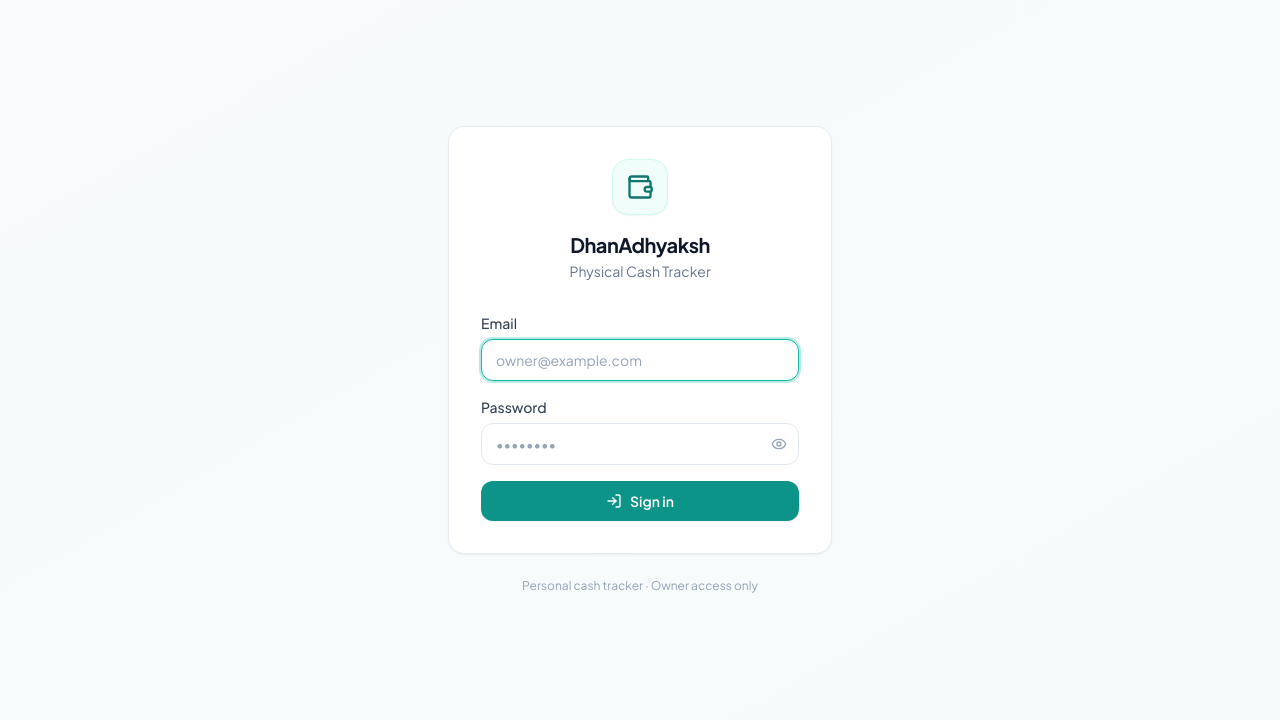
Test: Auth: Successful login navigates to app dashboard › shows the dashboard after successful login
Type "owner@test.com" into the field labelled "Email".
click(640, 360); type("owner@test.com")  # box [481, 339, 799, 381]
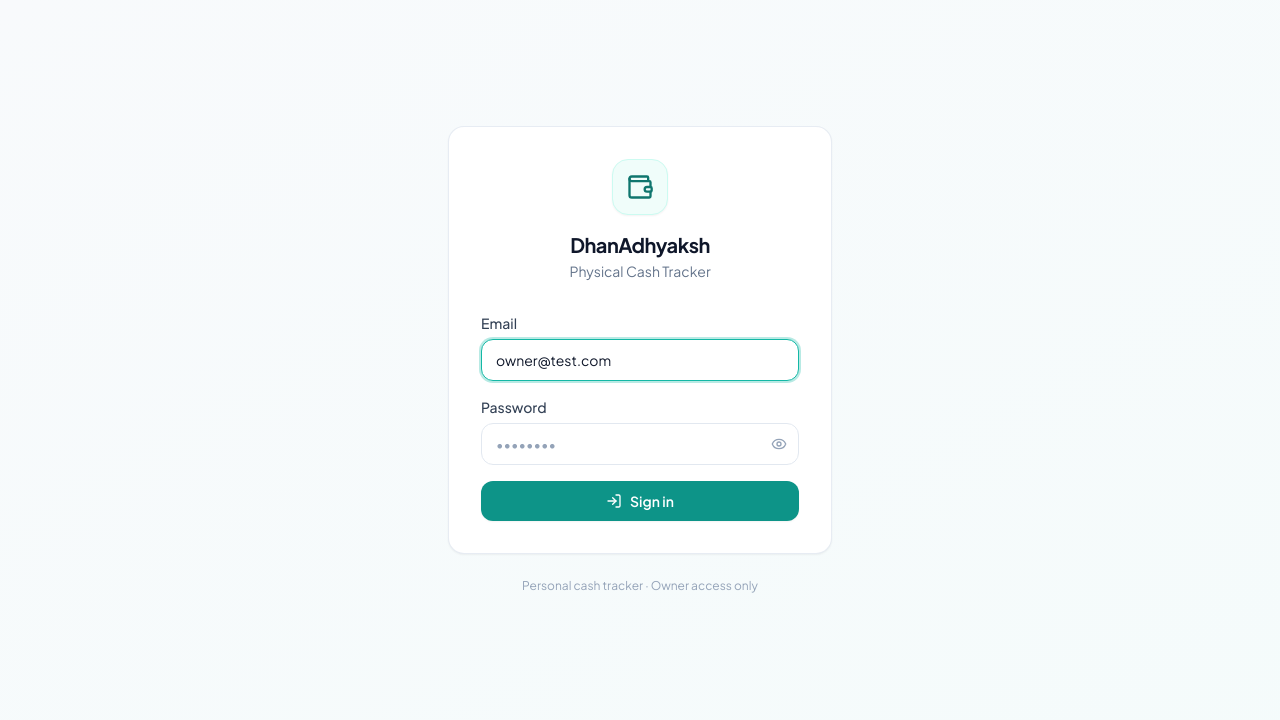
Type "SecureP@ss123!" into the password field labelled "Password".
click(640, 444); type("SecureP@ss123!")  # box [481, 423, 799, 465]
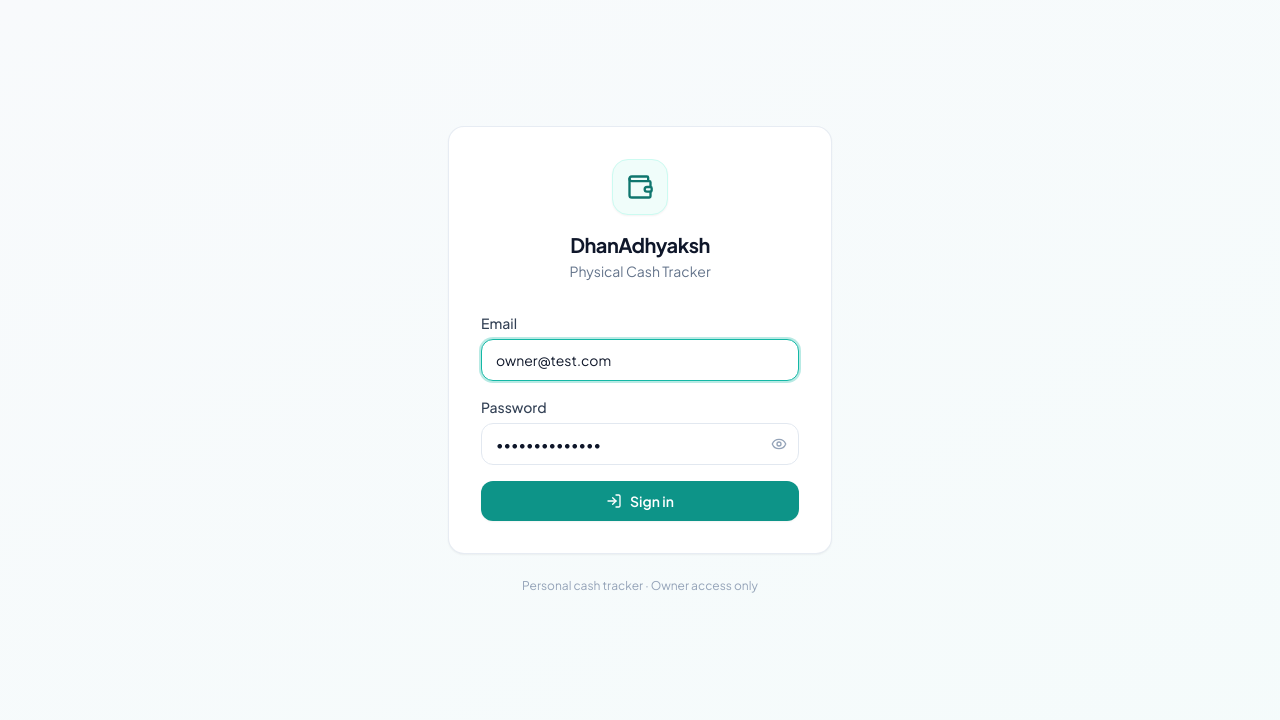
Click the button "Sign in".
click(640, 501)  # box [481, 481, 799, 521]
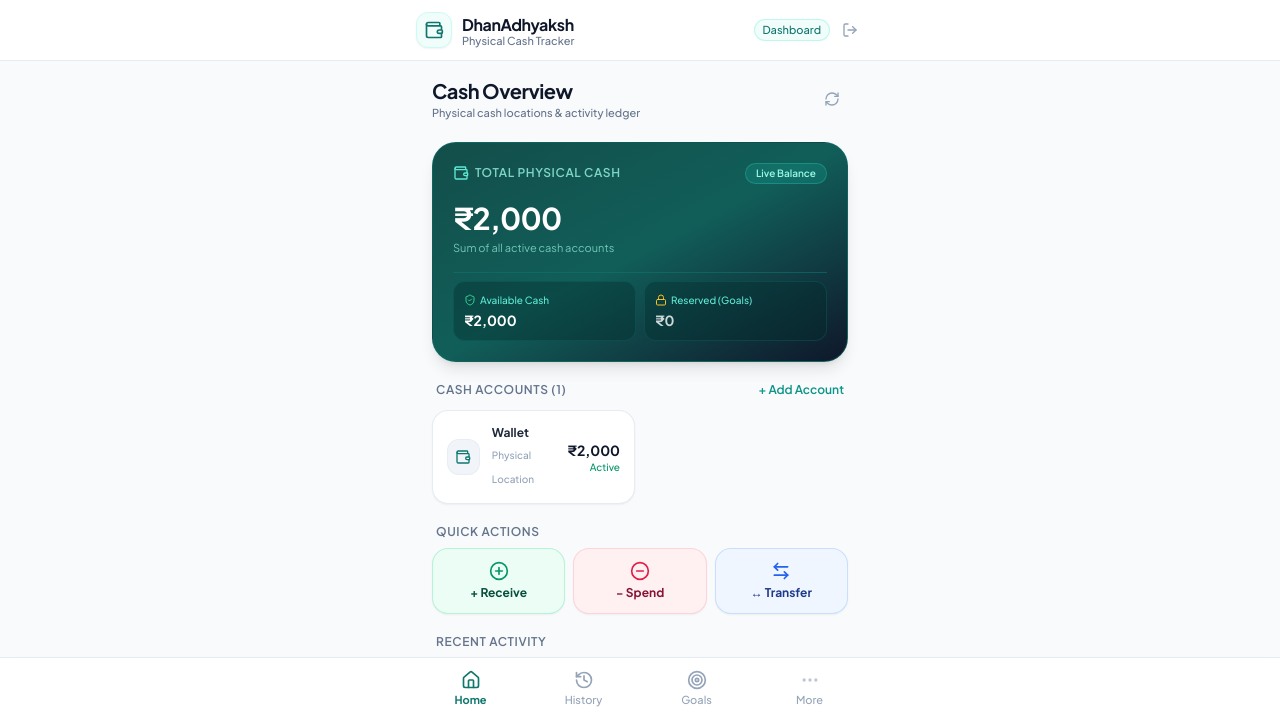
Expected: the heading "Cash Overview" is shown, [432, 78, 573, 103]
